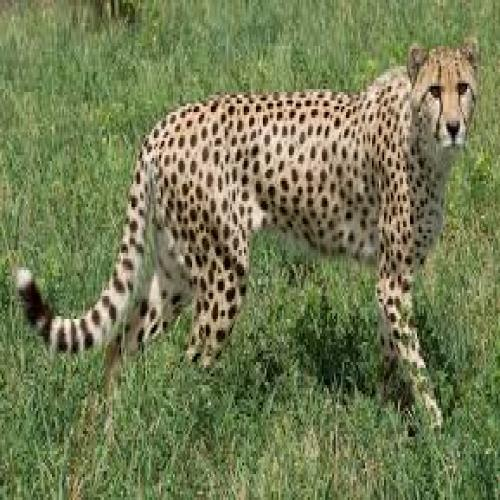cheetah-endangered: (15, 36, 479, 434)
